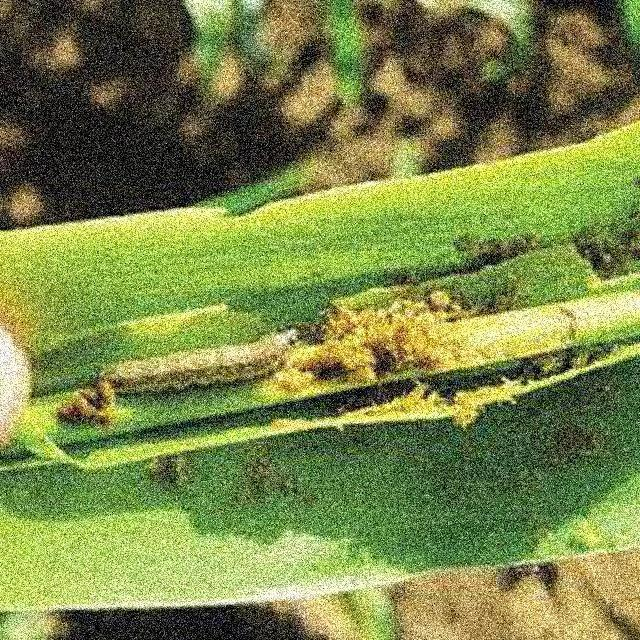gusano_cogollero: (88, 326, 300, 399)
